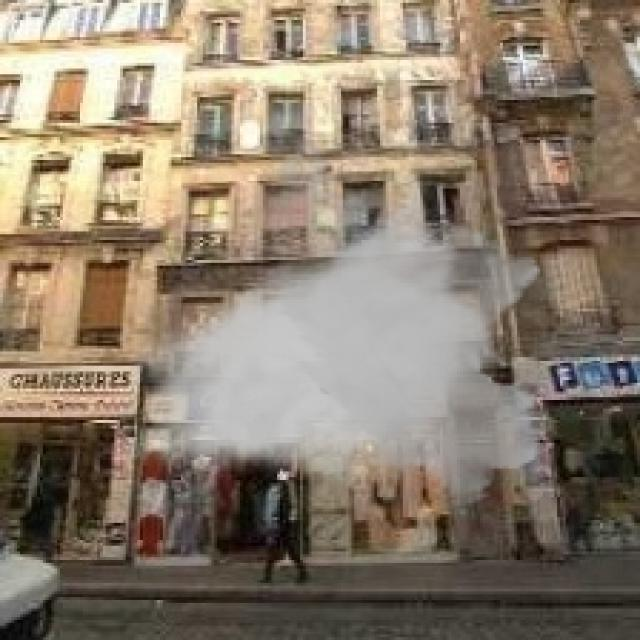smoke: (126, 140, 551, 517)
